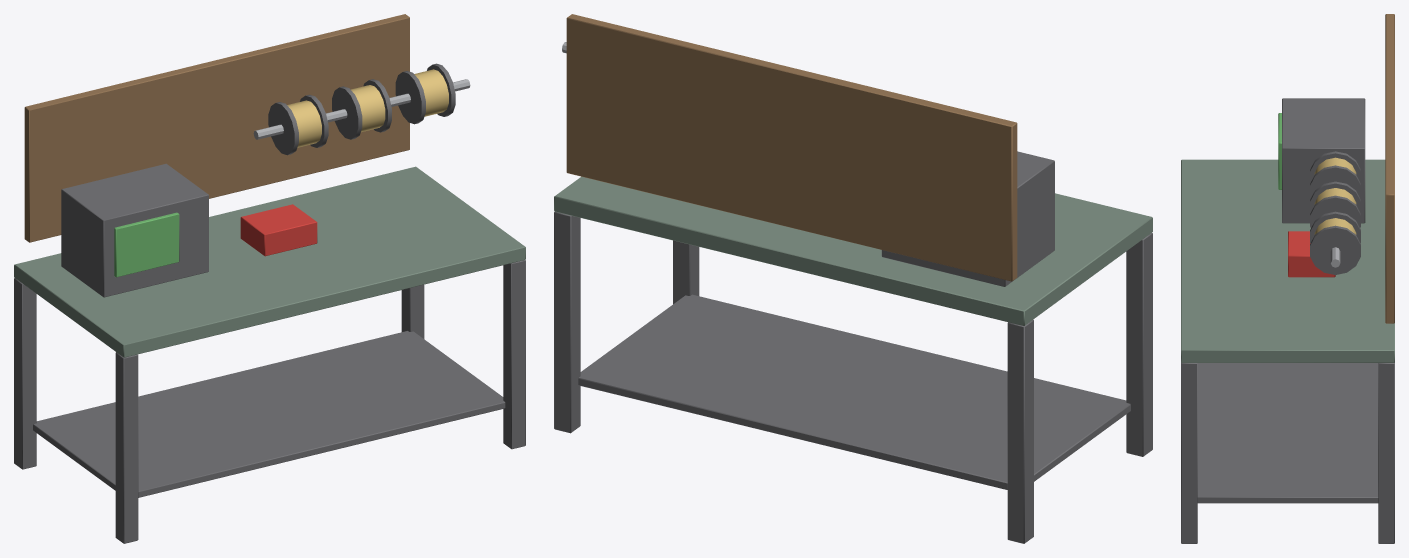
File: feM_Electronics.fbx
3 renders of one model, left to right at view 1: azimuth 30°, elevation 25°; view 2: azimuth 150°, elevation 25°; view 3: azimuth 270°, elevation 25°, orthographic. The views are drawn at different scales.
Parts seen in each view (by area): view 1: feM_Electronics_Base, FeSpin_x0.5_Spools; view 2: feM_Electronics_Base; view 3: feM_Electronics_Base, FeSpin_x0.5_Spools.
Part boxes in pixels (x1,y1,x2,y2): feM_Electronics_Base: [14, 14, 525, 543]; FeSpin_x0.5_Spools: [253, 63, 470, 155]; feM_Electronics_Base: [554, 14, 1152, 543]; feM_Electronics_Base: [1181, 14, 1394, 543]; FeSpin_x0.5_Spools: [1310, 151, 1360, 274].
Size of the model in its own units: 2 by 1.6 by 0.9.
